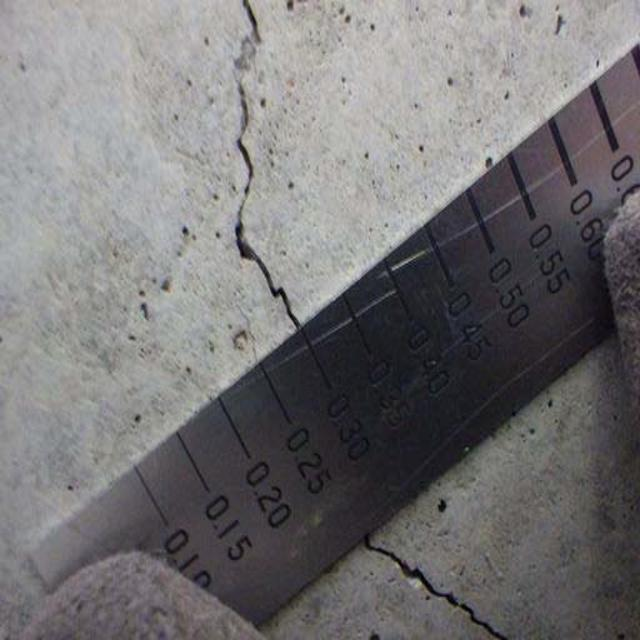crack: (220, 5, 319, 322), (334, 540, 512, 640)
